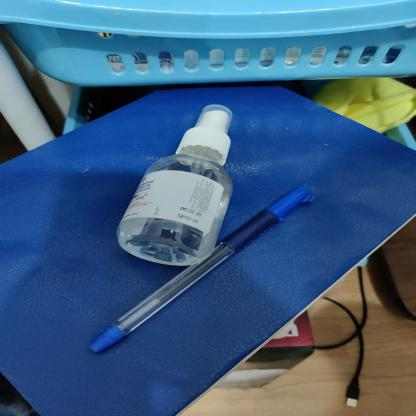pen: (60, 152, 338, 357)
